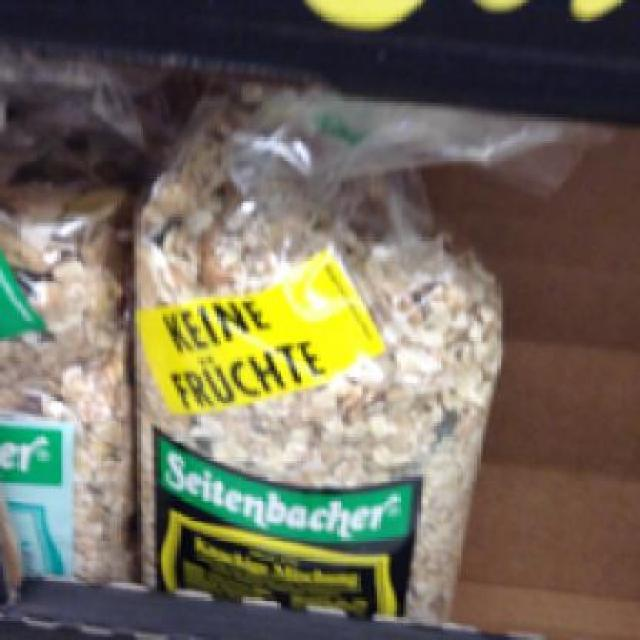Cereal: (128, 108, 504, 614)
